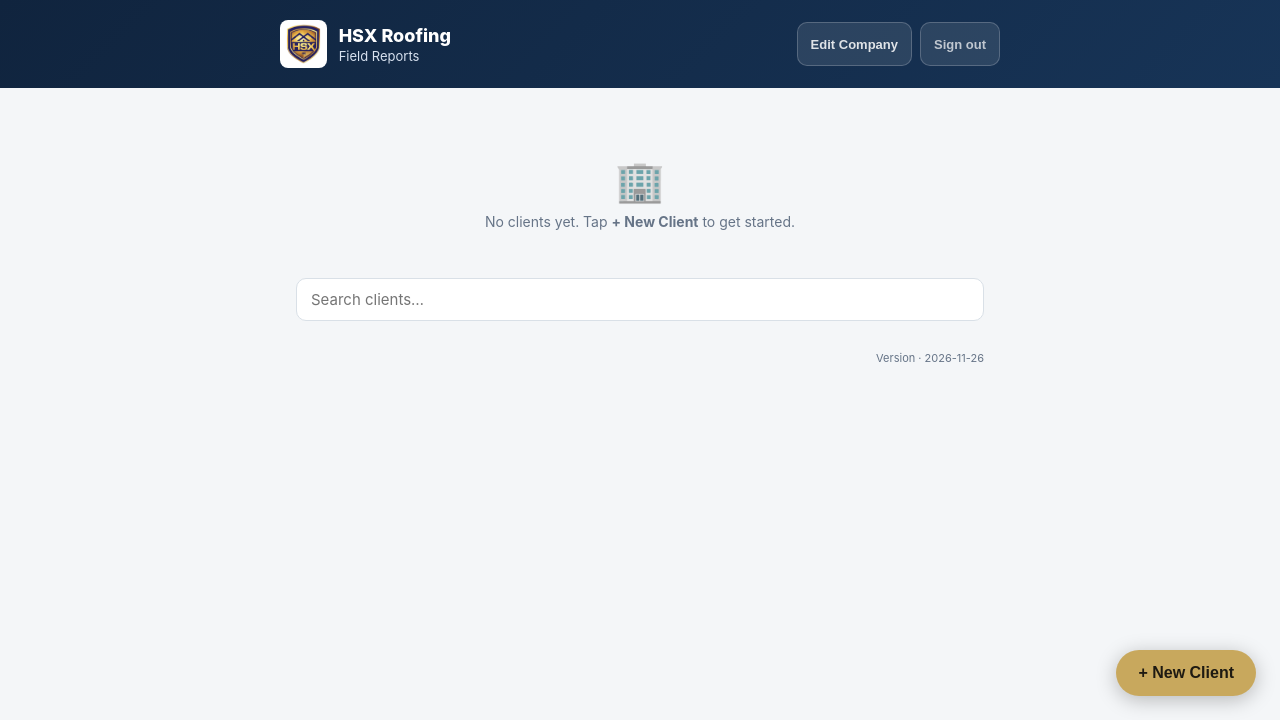
Test case: ClientsPage › opens New Client modal when button is clicked
This screenshot has width=1280, height=720.
Check: the text "No clients yet. Tap + New Client to get started." is shown, box [485, 213, 795, 230]
Use getByRole to avoid ambiguity with any matching text
Click the button "+ New Client" at point(1186, 673), box [1116, 650, 1256, 696]
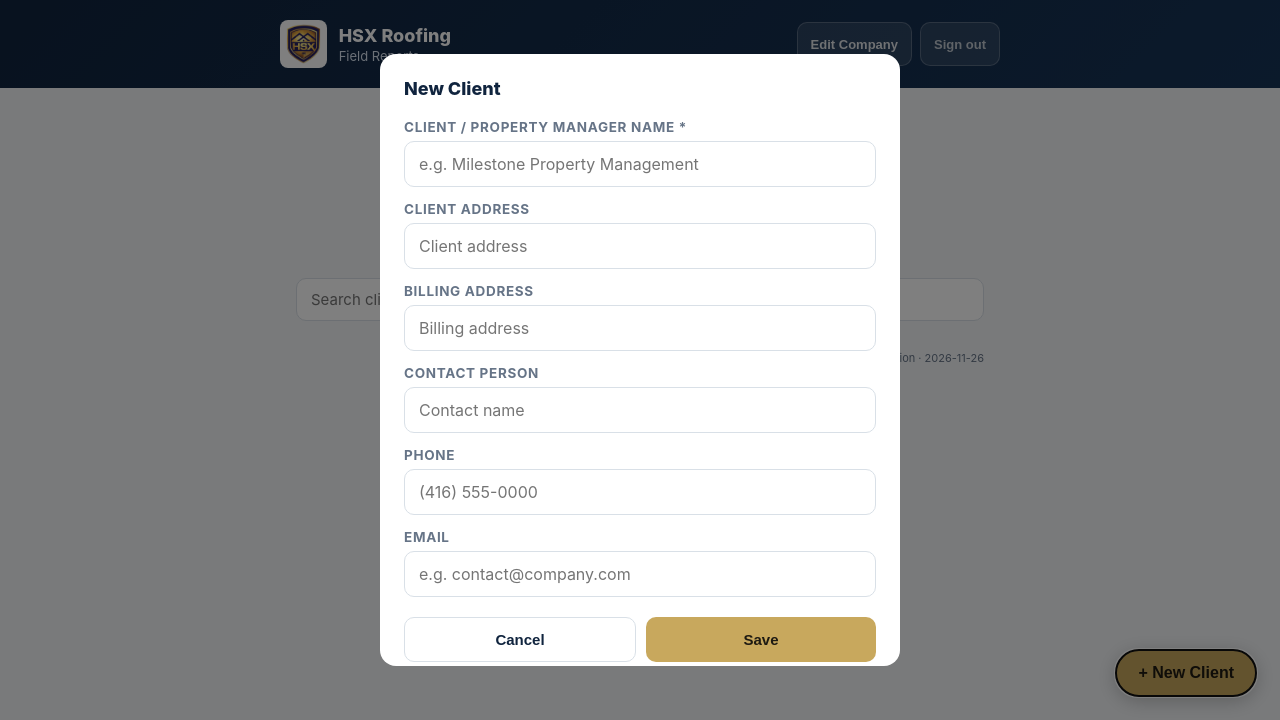
Check: the heading "New Client" is shown, box [404, 78, 501, 99]
